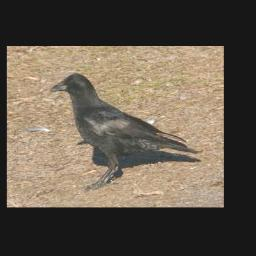Crow: (53, 71, 200, 190)
